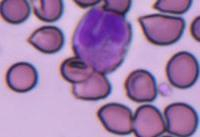N: (73, 6, 131, 74)
